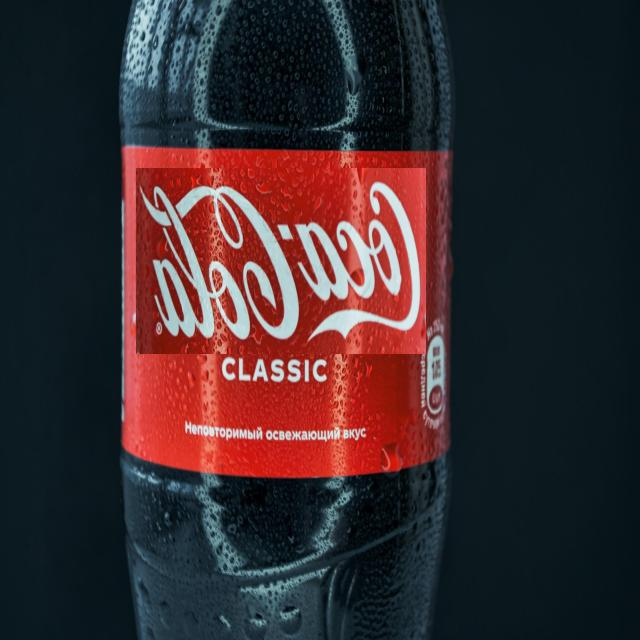coca-cola: (136, 168, 426, 354)
